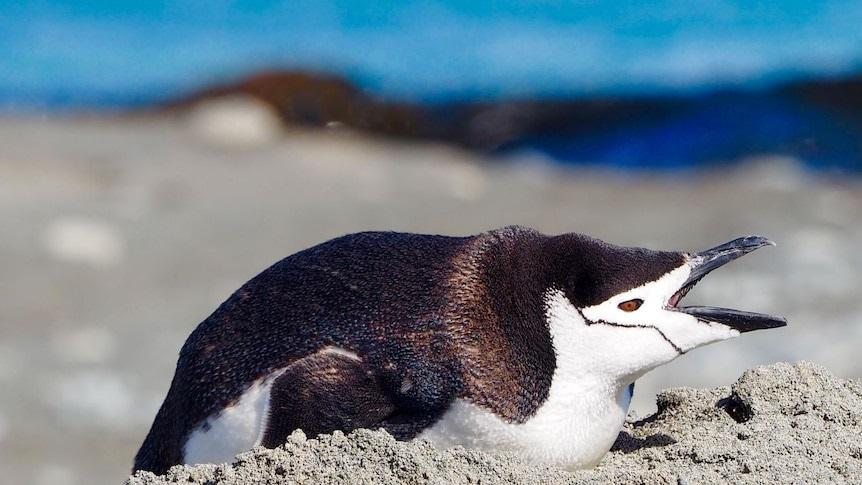chinstrap: (102, 213, 798, 471)
